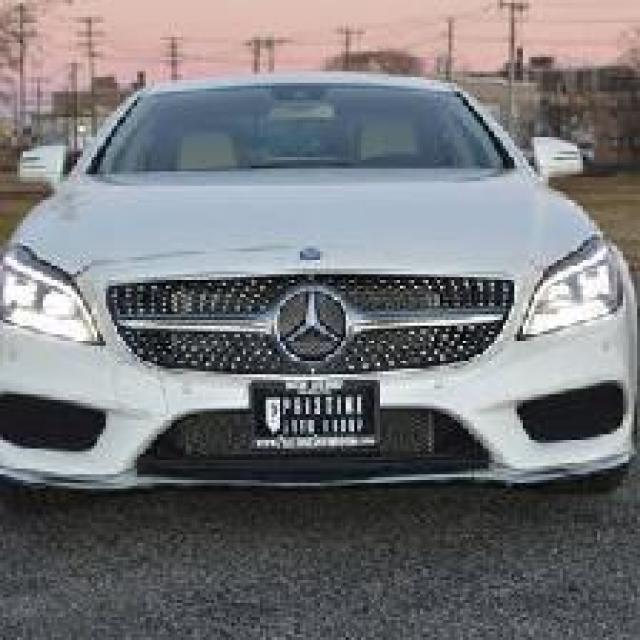damaged: (103, 349, 180, 437)
